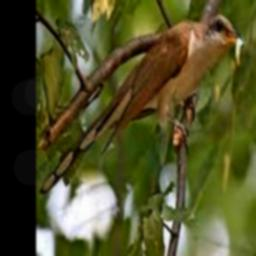Cuckoo: (39, 14, 245, 195)
